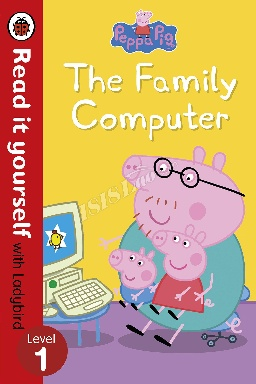Peppa: (151, 226, 211, 319)
